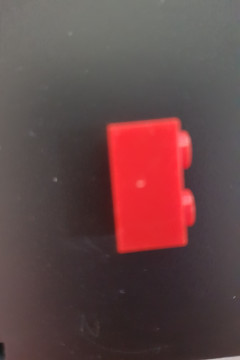1x2 red: (105, 117, 196, 253)
